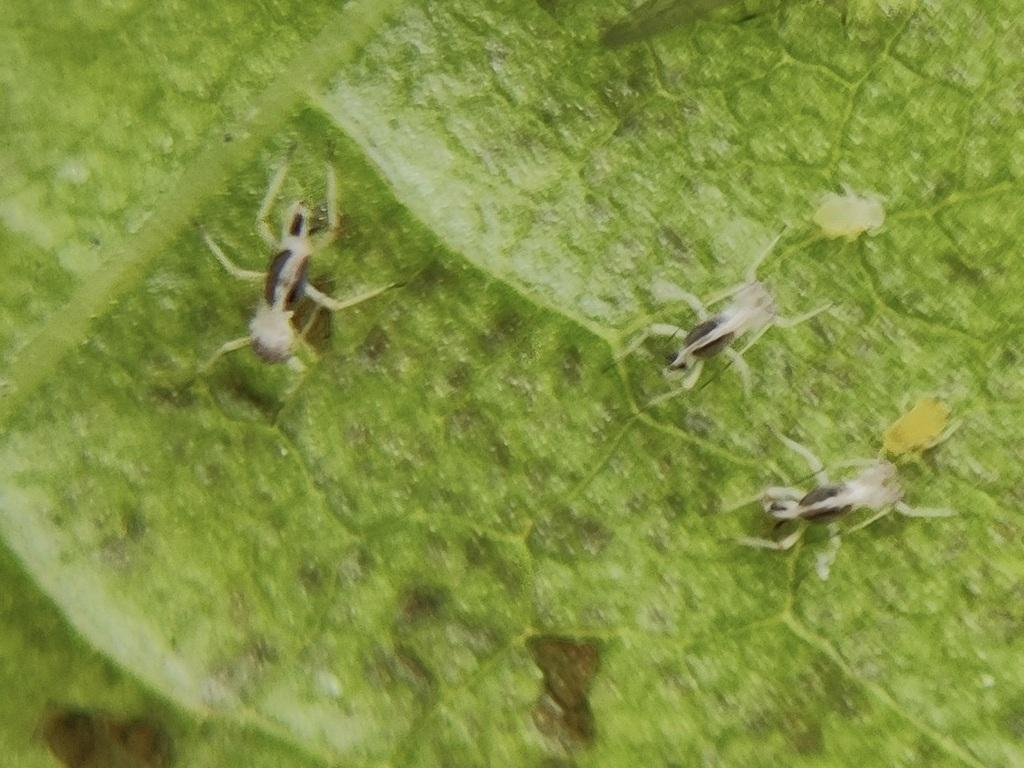tiny_pests: (177, 134, 406, 414), (583, 219, 848, 427), (712, 404, 949, 599)
